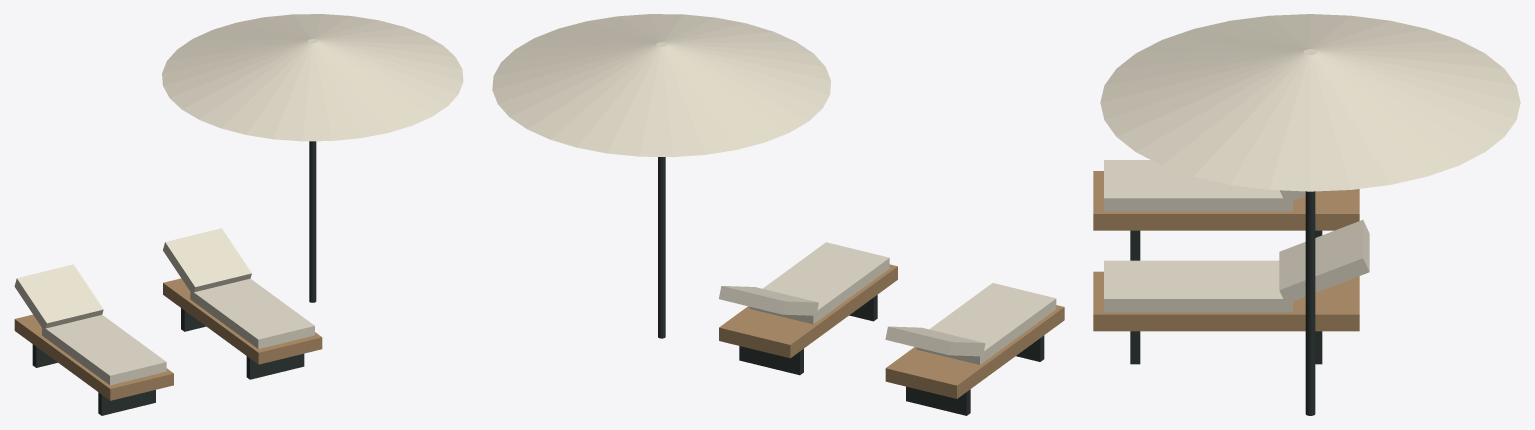
The model's file is lounge.glb.
3 renders of one model, left to right at view 1: azimuth 30°, elevation 25°; view 2: azimuth 150°, elevation 25°; view 3: azimuth 270°, elevation 25°, orthographic. The views are drawn at different scales.
Visible parts, largest first — view 1: lounge_Len, lounge_Modrin, lounge_Antracit; view 2: lounge_Len, lounge_Modrin, lounge_Antracit; view 3: lounge_Len, lounge_Modrin, lounge_Antracit.
Boxes of the visible parts, x1,y1,x2,y2 form: lounge_Len: (14,14,463,385); lounge_Modrin: (14,278,322,400); lounge_Antracit: (32,141,316,415); lounge_Len: (492,14,1056,364); lounge_Modrin: (719,264,1064,398); lounge_Antracit: (658,157,1044,415); lounge_Len: (1100,14,1520,312); lounge_Modrin: (1093,171,1359,331); lounge_Antracit: (1130,191,1322,415).
Bounding box in the file's own units: 4.71 × 2.85 × 3.05.
